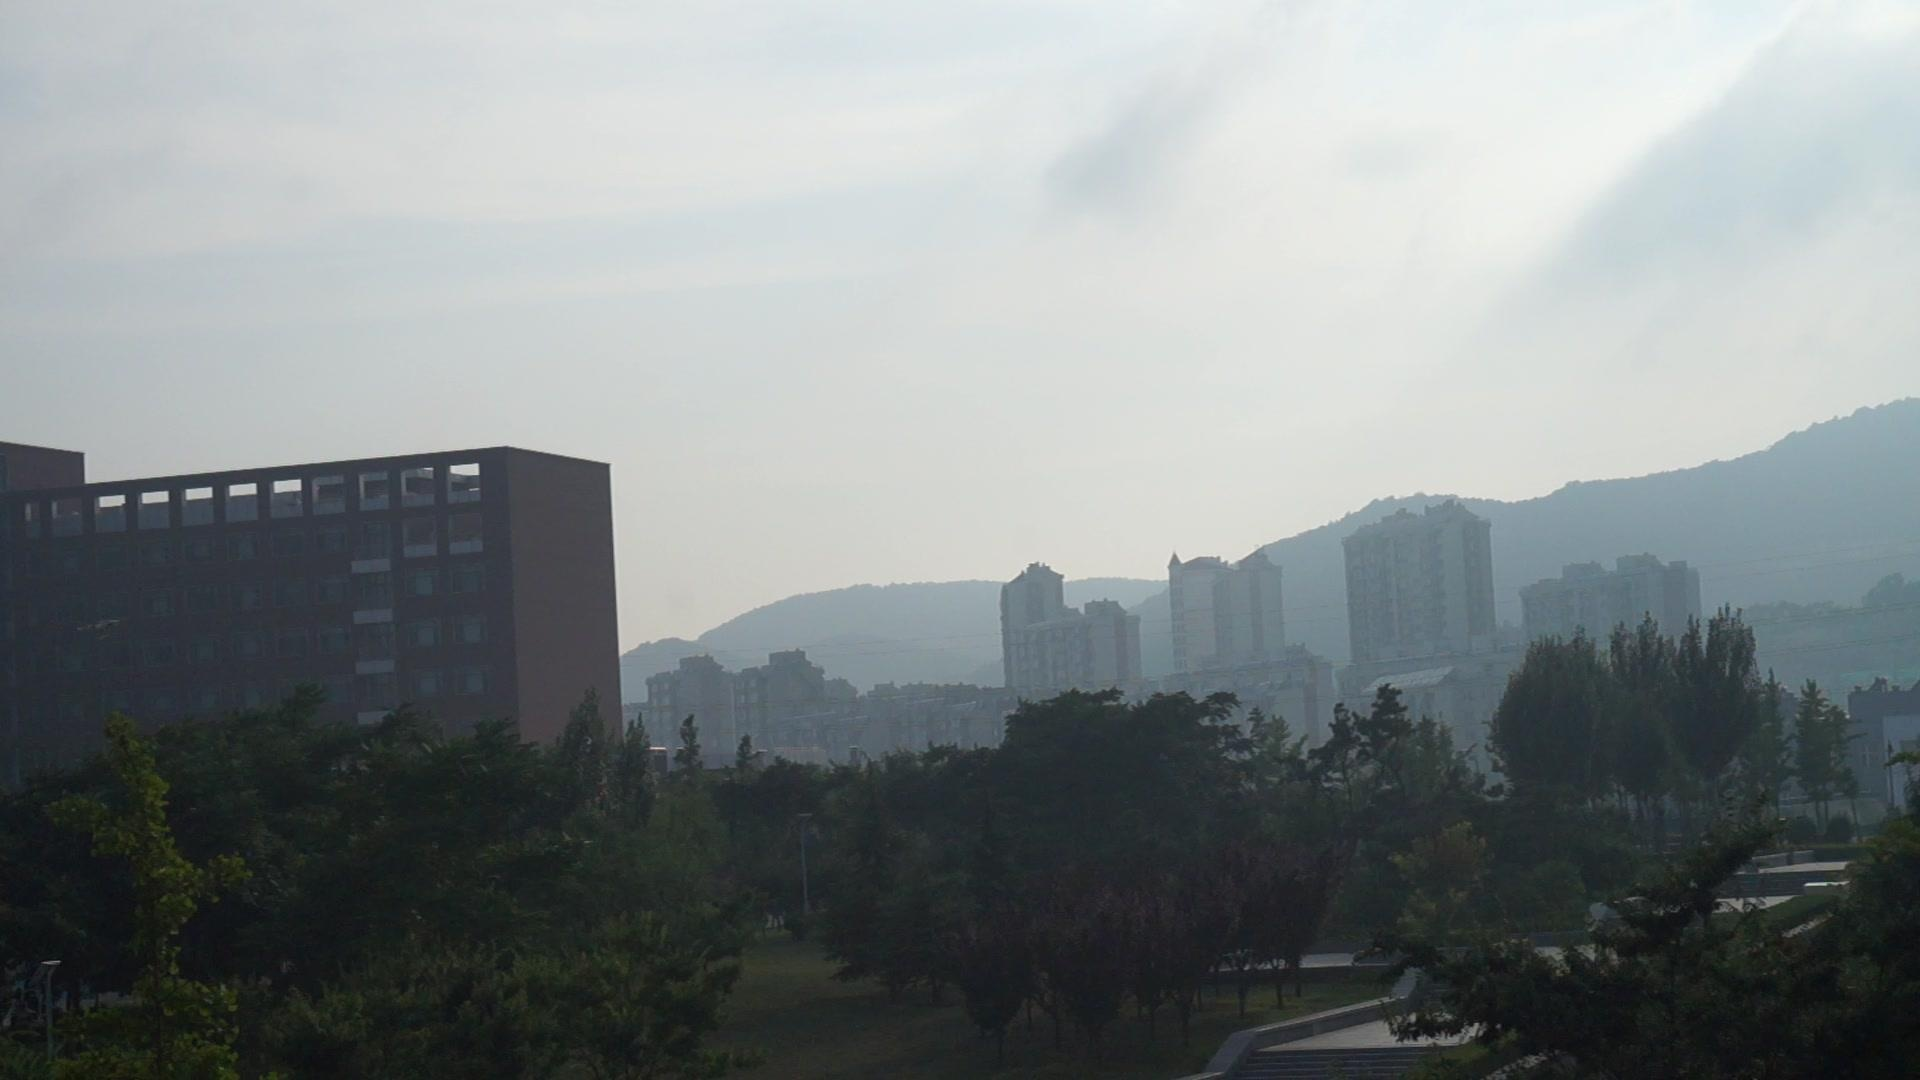UAV: (76, 620, 121, 641)
